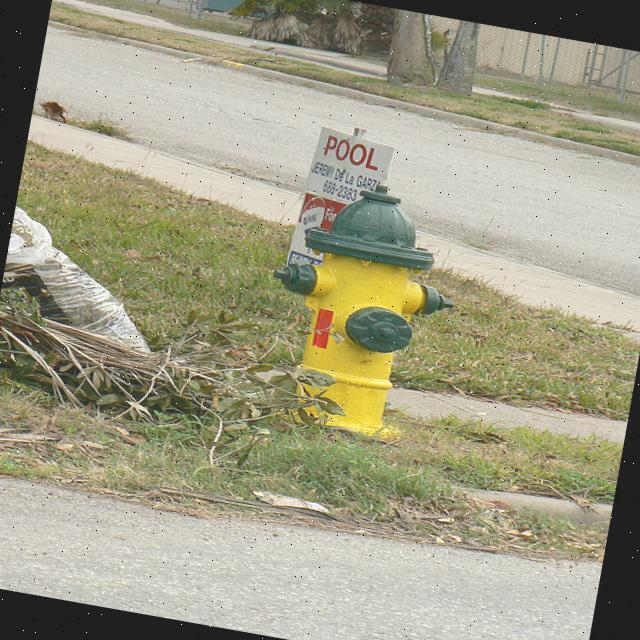fire_hydrant: (248, 166, 477, 452)
